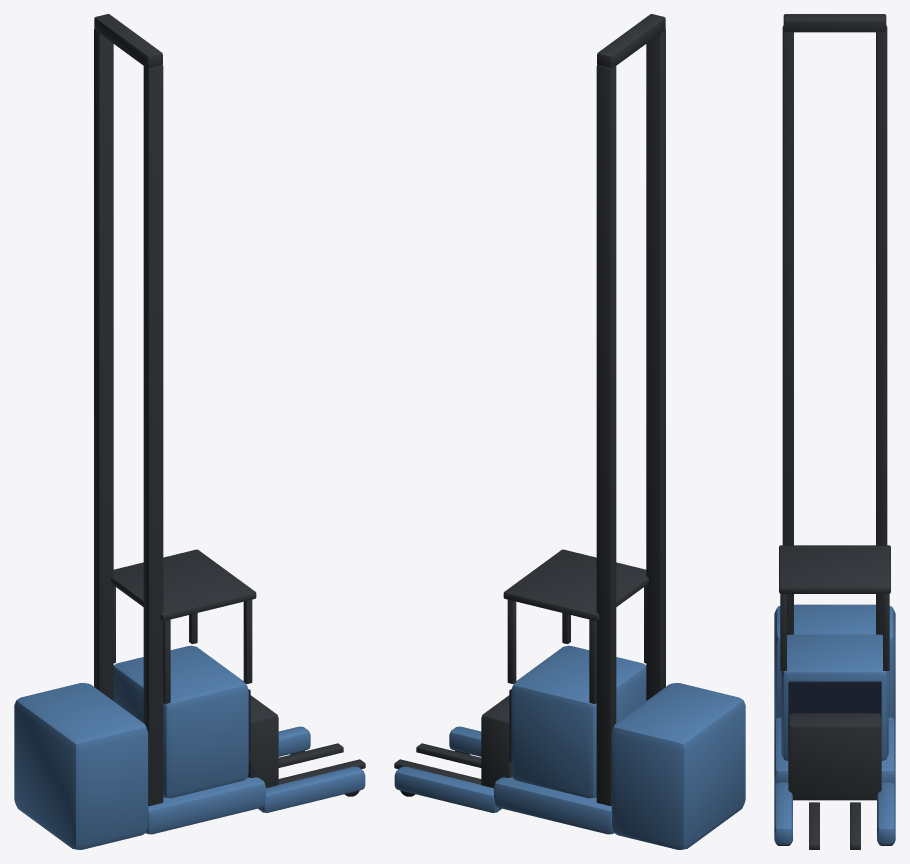
The model's file is vna.glb.
The picture shows the model from 3 angles, left to right: view 1: azimuth 30°, elevation 25°; view 2: azimuth 150°, elevation 25°; view 3: azimuth 270°, elevation 25°; orthographic projection. The views are drawn at different scales.
Parts seen in each view (by area): view 1: body, lift; view 2: body, lift; view 3: lift, body.
Boxes of the visible parts, x1,y1,x2,y2 form: body: (14,14,365,849); lift: (111,549,365,798); body: (394,14,745,849); lift: (394,549,648,798); lift: (779,545,890,849); body: (774,14,895,845).
Bounding box in the file's own units: 3.6 × 8.75 × 1.3.
